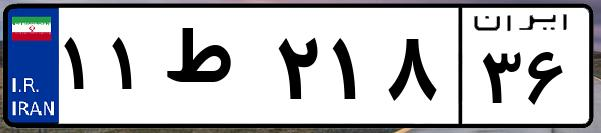1: (330, 28, 385, 110), (57, 26, 110, 100), (110, 28, 158, 98)
2: (270, 28, 330, 110)
3: (475, 38, 525, 113)
6: (525, 38, 570, 115)
8: (385, 28, 445, 110)
ط: (158, 20, 270, 120)
